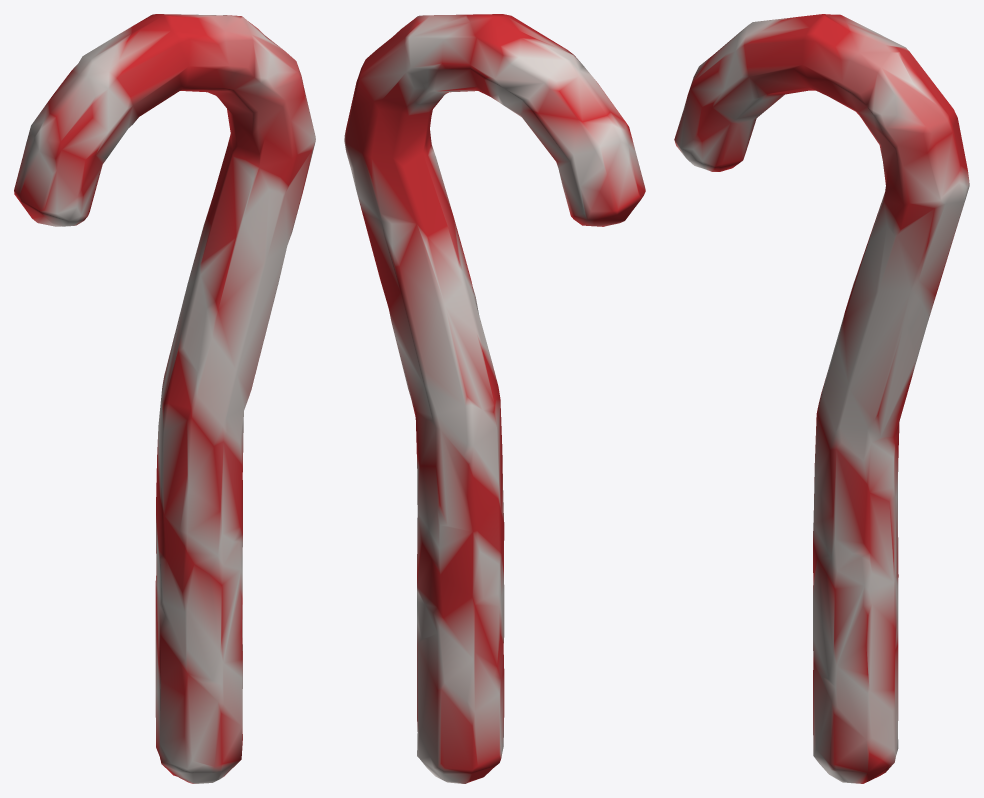
File: gen3d-candy-cane-lod1.glb
The picture shows the model from 3 angles, left to right: view 1: azimuth 30°, elevation 25°; view 2: azimuth 150°, elevation 25°; view 3: azimuth 330°, elevation 25°; orthographic projection. The views are drawn at different scales.
Visible parts, largest first — view 1: part_0; view 2: part_0; view 3: part_0.
Part boxes in pixels (<box>): part_0: <box>14,14,315,783</box>; part_0: <box>344,14,645,783</box>; part_0: <box>674,14,969,783</box>.
Size of the model in its own units: 0.3922 by 0.9993 by 0.1036.
